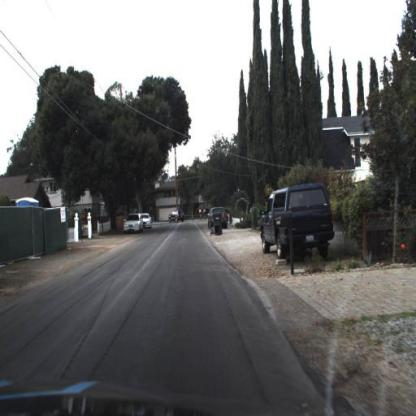biker: (198, 208, 205, 220)
car: (262, 184, 335, 261), (207, 207, 228, 231), (125, 215, 143, 233), (169, 211, 185, 223), (143, 214, 154, 228)
